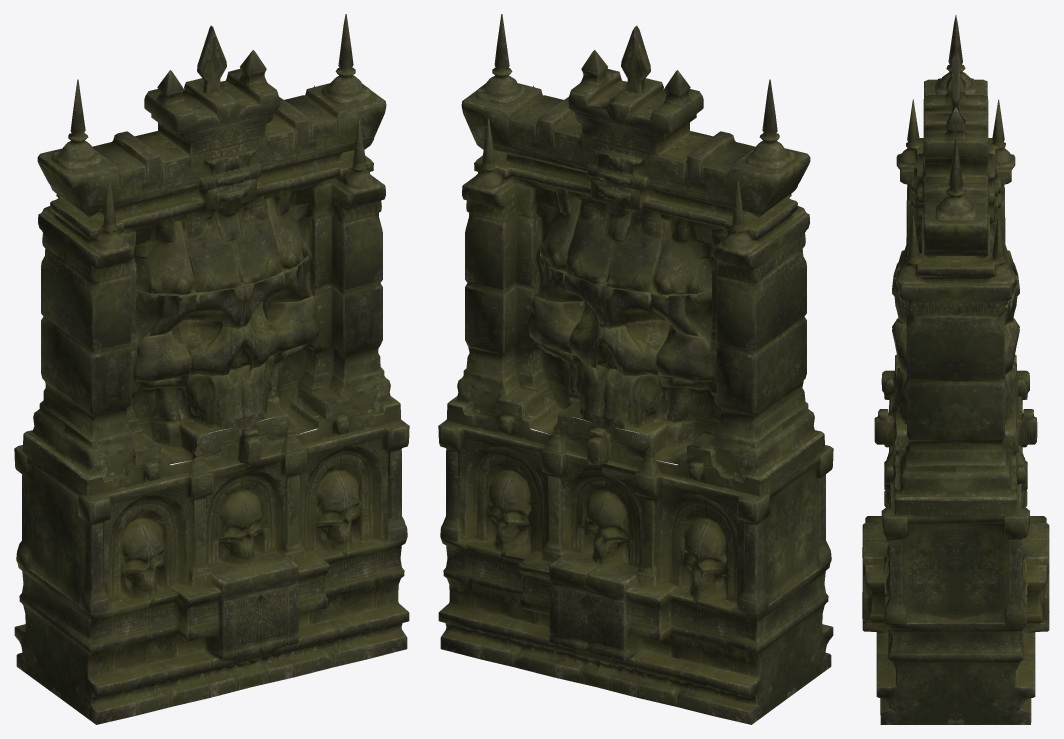
File: Ruins_Statue_A-transformed.glb
3 renders of one model, left to right at view 1: azimuth 30°, elevation 25°; view 2: azimuth 150°, elevation 25°; view 3: azimuth 270°, elevation 25°, orthographic. The views are drawn at different scales.
Parts seen in each view (by area): view 1: Ruins_Statue_A; view 2: Ruins_Statue_A; view 3: Ruins_Statue_A.
Boxes of the visible parts, bbox=[...] form: Ruins_Statue_A: bbox=[14, 14, 409, 724]; Ruins_Statue_A: bbox=[438, 14, 833, 724]; Ruins_Statue_A: bbox=[862, 15, 1049, 724].
Size of the model in its own units: 12.36 by 23.38 by 6.63.
Materials: 3 (3 with a texture image).
